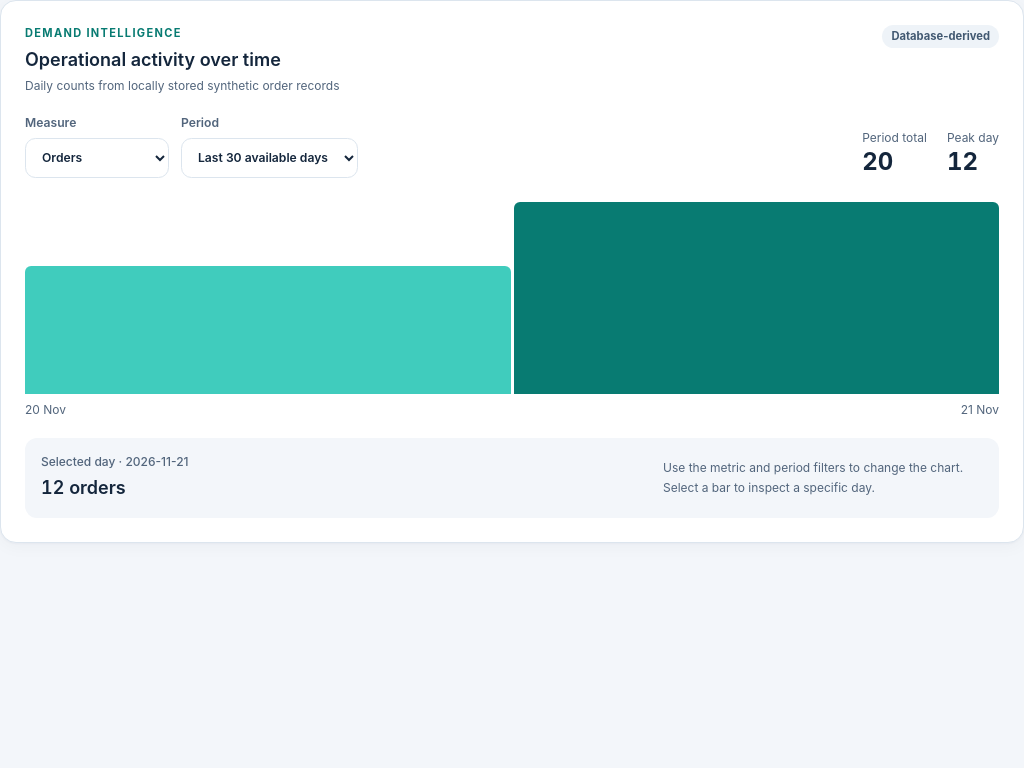
Test case: lets analysts explore daily order and delay measures without changing backend data
Expected: the text "20" is shown, x1=862 y1=147 x2=893 y2=176
Select "Recorded delays" in the dropdown named "Chart measure" at (97, 158), box x1=25 y1=138 x2=169 y2=178
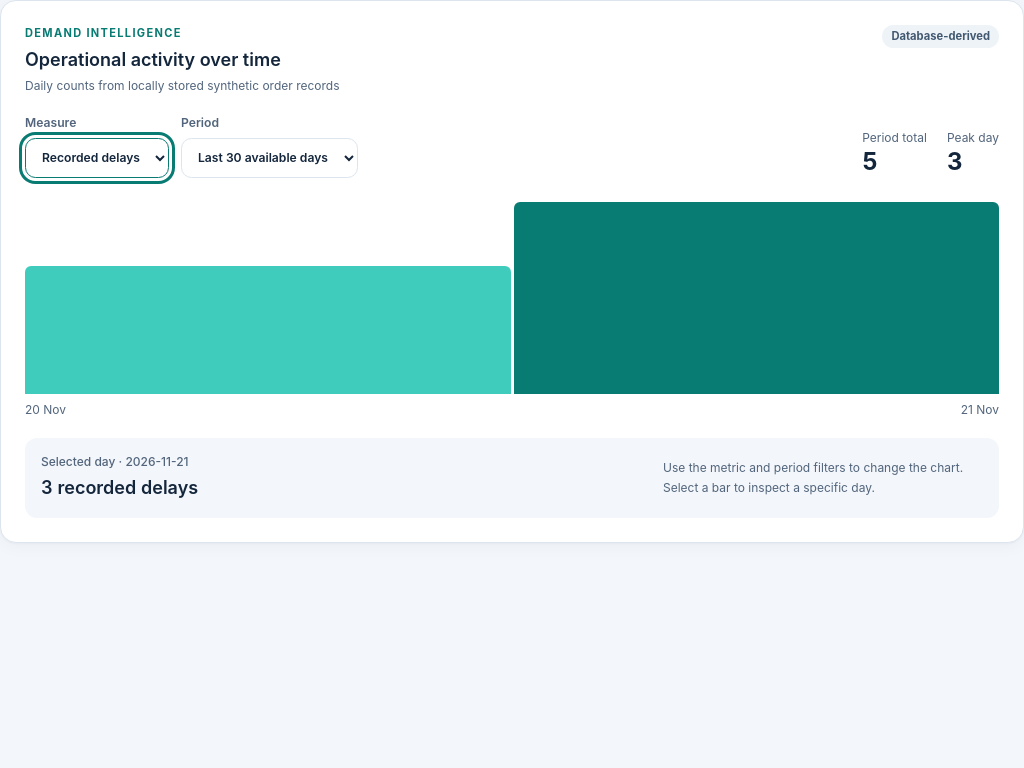
Expected: the text "5" is shown, x1=862 y1=147 x2=878 y2=176
Click the button named "2026-11-20: 2 delayed" at (268, 330), box x1=25 y1=266 x2=510 y2=394
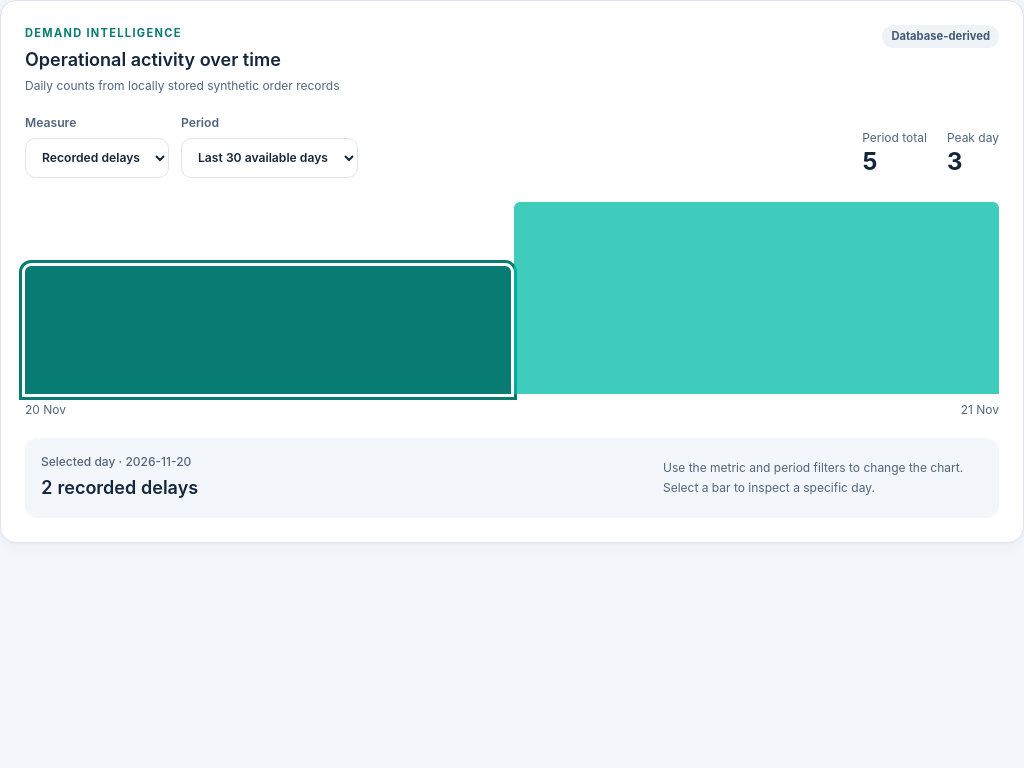
Expected: the text "2 recorded delays" is shown, x1=41 y1=474 x2=198 y2=502
